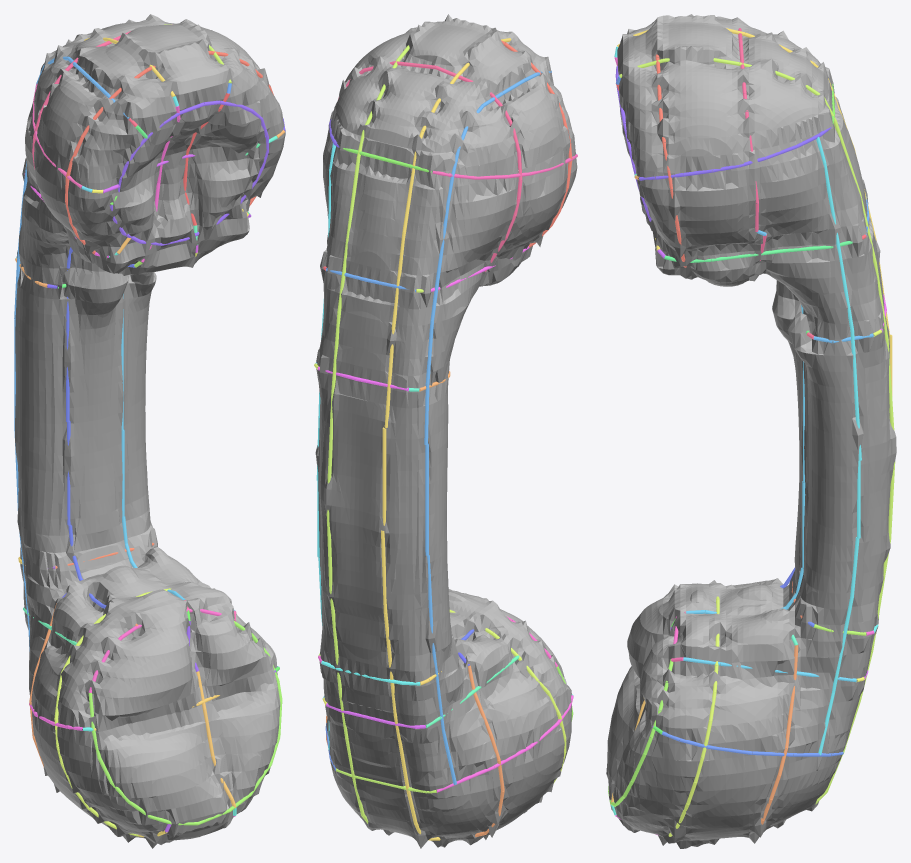
Rendered from flowrep_phone.gltf.
The picture shows the model from 3 angles, left to right: view 1: azimuth 30°, elevation 25°; view 2: azimuth 150°, elevation 25°; view 3: azimuth 270°, elevation 25°; orthographic projection.
Bounding box in the file's own units: 0.2708 × 0.9421 × 0.3069.
